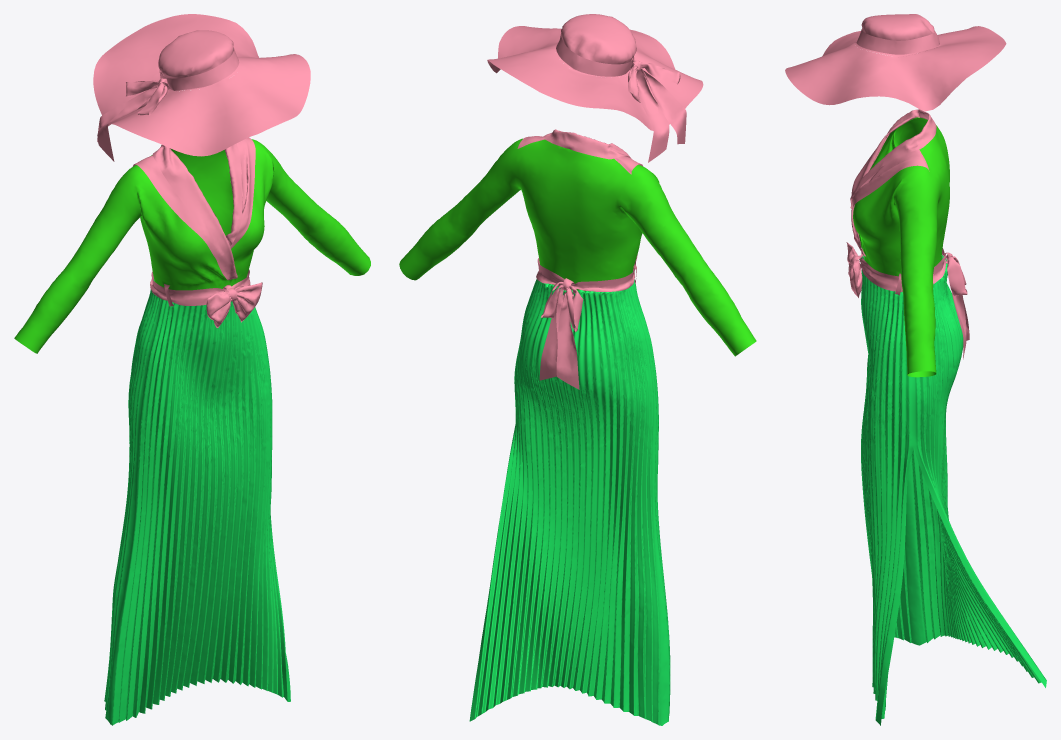
3 renders of one model, left to right at view 1: azimuth 30°, elevation 25°; view 2: azimuth 150°, elevation 25°; view 3: azimuth 270°, elevation 25°, orthographic.
Parts seen in each view (by area): view 1: N; view 2: N; view 3: N.
Part boxes in pixels (left/top/right/bottom): N: left=14, top=14, right=370, bottom=725; N: left=399, top=14, right=756, bottom=725; N: left=785, top=14, right=1046, bottom=725.
Size of the model in its own units: 0.9939 by 1.82 by 0.6467.
